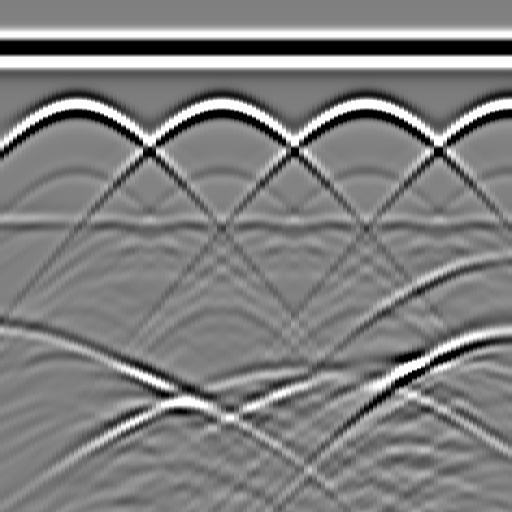grout_surface: (1, 209, 512, 239)
rebar: (55, 88, 95, 128), (199, 88, 239, 128), (344, 88, 384, 128), (488, 88, 512, 128)
rock_surface: (1, 326, 511, 404)
water_void: (485, 234, 512, 274)
